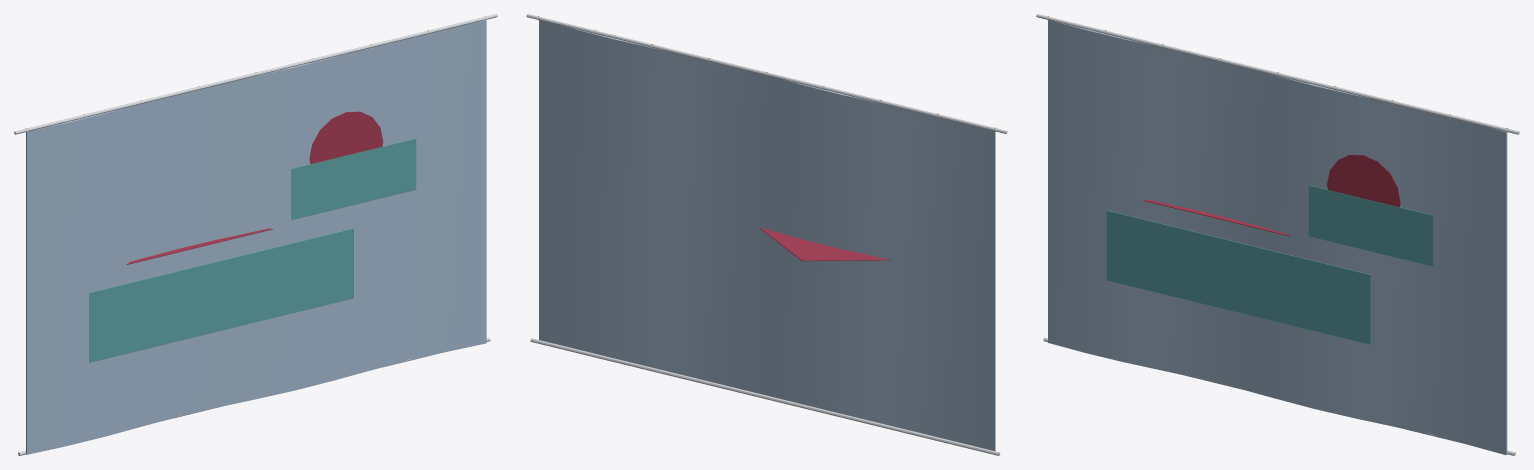
Rendered from theatre-stage-and-backstage-backdrop-cloth-on-batten-358ce409__35881.glb.
3 views of the same model, side by side, from view 1: azimuth 30°, elevation 25°; view 2: azimuth 150°, elevation 25°; view 3: azimuth 330°, elevation 25° (orthographic).
Parts seen in each view (by area): view 1: backdrop-cloth-on-batten; view 2: backdrop-cloth-on-batten; view 3: backdrop-cloth-on-batten.
Boxes of the visible parts, left/top/right/bottom form: backdrop-cloth-on-batten: left=14, top=14, right=497, bottom=455; backdrop-cloth-on-batten: left=526, top=14, right=1007, bottom=455; backdrop-cloth-on-batten: left=1036, top=14, right=1519, bottom=455.
Bounding box in the file's own units: 8.4 × 5.46 × 0.7777.
